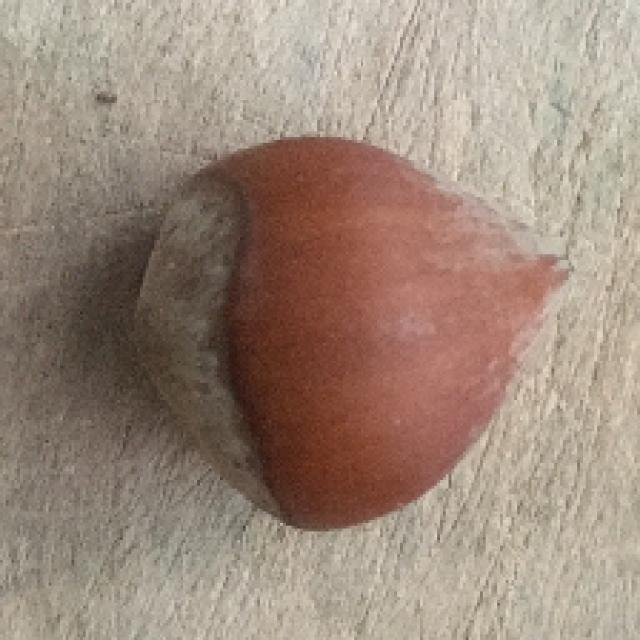qualityHazelnut: (139, 133, 573, 530)
